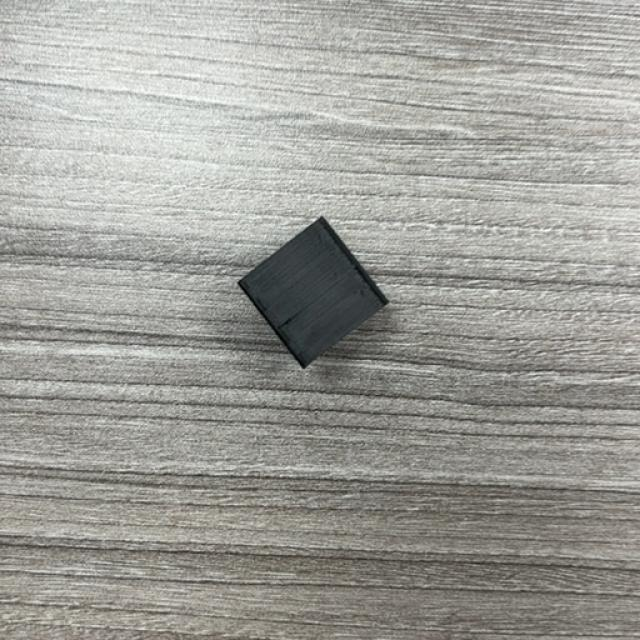Negro: (236, 218, 389, 369)
